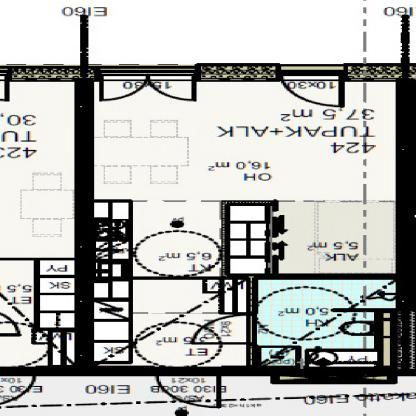door: (101, 73, 200, 103), (155, 376, 230, 412), (286, 72, 349, 110)
zone: (93, 75, 394, 202), (86, 12, 402, 63), (90, 281, 248, 366), (88, 201, 268, 275), (253, 278, 399, 366), (1, 79, 72, 258), (272, 202, 400, 274), (2, 260, 78, 362)
